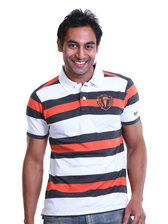clothoes: (20, 59, 145, 214)
